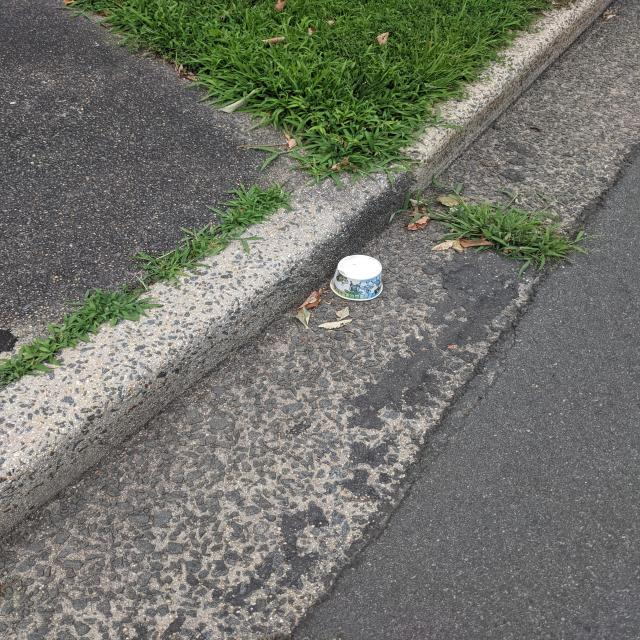litter: (330, 254, 386, 297)
